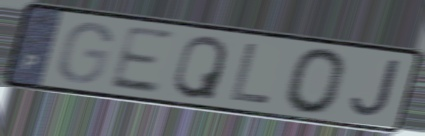E: (105, 23, 178, 96)
G: (55, 20, 115, 86)
J: (347, 58, 403, 121)
L: (227, 40, 274, 107)
O: (282, 45, 350, 117)
Q: (170, 33, 231, 102)
